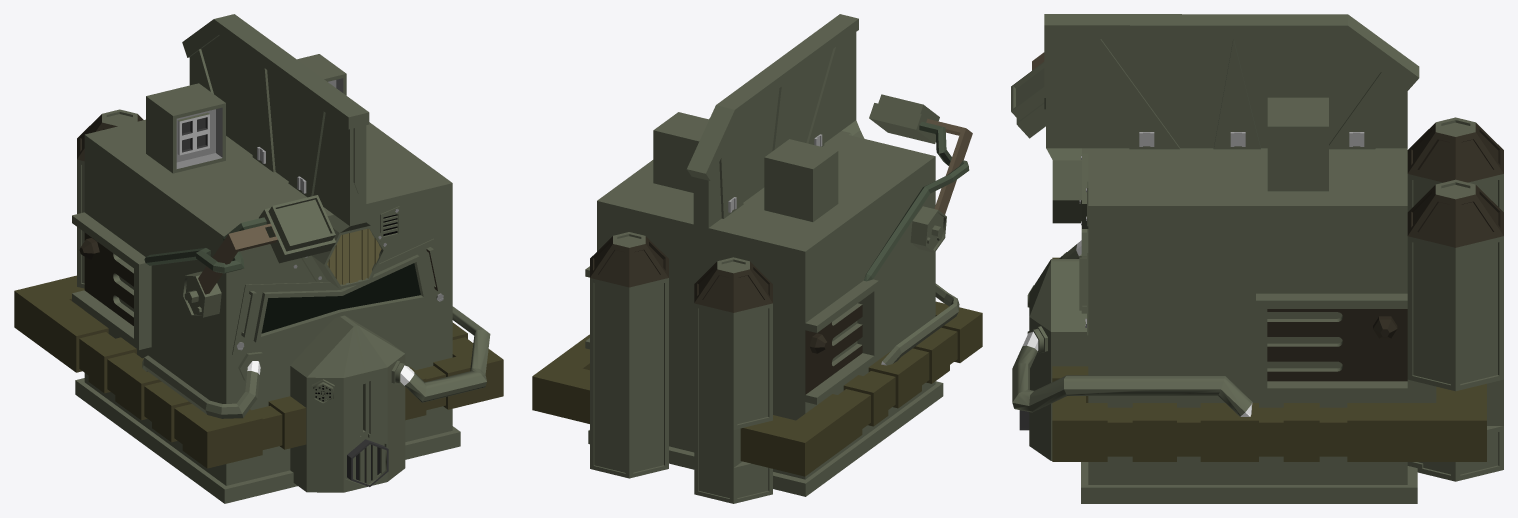
The model's file is t50head.obj.
3 renders of one model, left to right at view 1: azimuth 30°, elevation 25°; view 2: azimuth 150°, elevation 25°; view 3: azimuth 270°, elevation 25°, orthographic. The views are drawn at different scales.
Parts seen in each view (by area): view 1: Mesh26 Model, Mesh25 TubeR2 Model, Mesh1 Group1 Model, Mesh27 Model, Mesh24 TubeR1 Model, Mesh2 Group2 Model, Mesh28 Model, Mesh20 Group18 Model; view 2: Mesh26 Model, Mesh25 TubeR2 Model, Mesh27 Model, Mesh1 Group1 Model, Mesh24 TubeR1 Model, Mesh28 Model; view 3: Mesh26 Model, Mesh24 TubeR1 Model, Mesh28 Model, Mesh1 Group1 Model.
Part boxes in pixels (box(x1,y1,x2,y2)): Mesh26 Model: box(72, 14, 490, 503); Mesh25 TubeR2 Model: box(14, 275, 306, 468); Mesh1 Group1 Model: box(182, 195, 335, 317); Mesh27 Model: box(146, 83, 225, 173); Mesh24 TubeR1 Model: box(405, 322, 503, 420); Mesh2 Group2 Model: box(347, 439, 388, 486); Mesh28 Model: box(297, 54, 346, 95); Mesh20 Group18 Model: box(380, 206, 399, 248); Mesh26 Model: box(585, 14, 969, 503); Mesh25 TubeR2 Model: box(740, 301, 982, 476); Mesh27 Model: box(764, 139, 838, 221); Mesh1 Group1 Model: box(869, 94, 972, 252); Mesh24 TubeR1 Model: box(532, 334, 589, 423); Mesh28 Model: box(653, 112, 709, 192); Mesh26 Model: box(1012, 14, 1503, 503); Mesh24 TubeR1 Model: box(1052, 366, 1486, 461); Mesh28 Model: box(1267, 97, 1328, 191); Mesh1 Group1 Model: box(1011, 52, 1045, 138).
Size of the model in its own units: 1246 by 1494 by 1591.
